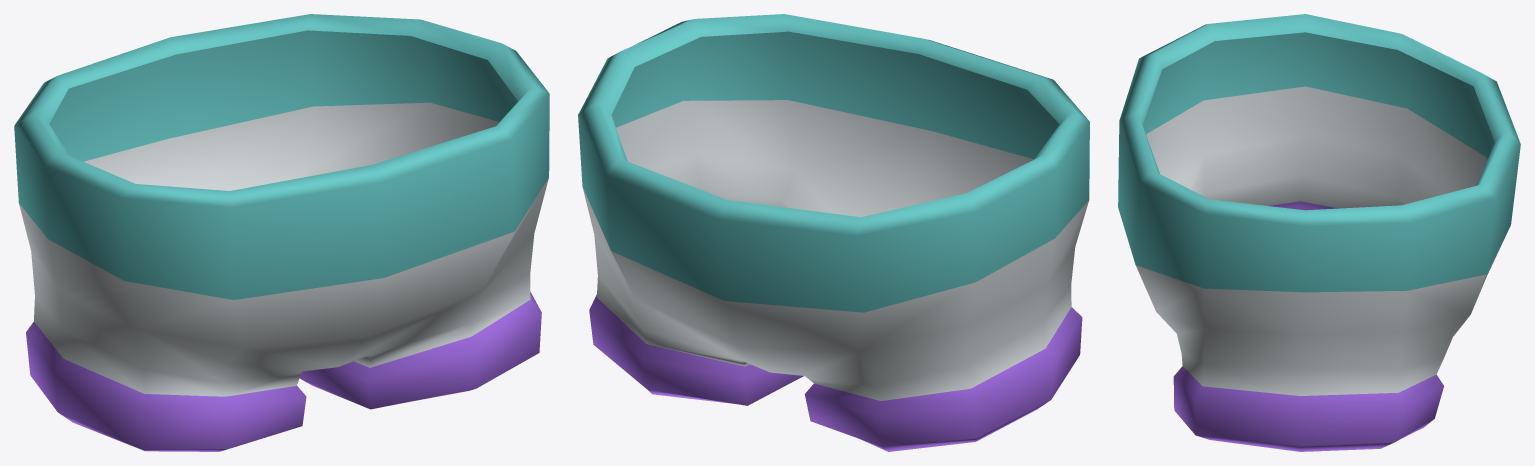
The model's file is Bottom_32.fbx.
3 views of the same model, side by side, from view 1: azimuth 30°, elevation 25°; view 2: azimuth 150°, elevation 25°; view 3: azimuth 270°, elevation 25° (orthographic). The views are drawn at different scales.
Visible parts, largest first — view 1: Bottom_32; view 2: Bottom_32; view 3: Bottom_32.
Part boxes in pixels (x1,y1,x2,y2): Bottom_32: (14, 14, 549, 451); Bottom_32: (578, 14, 1089, 451); Bottom_32: (1118, 14, 1520, 451).
Size of the model in its own units: 38.42 by 22.89 by 31.34.
